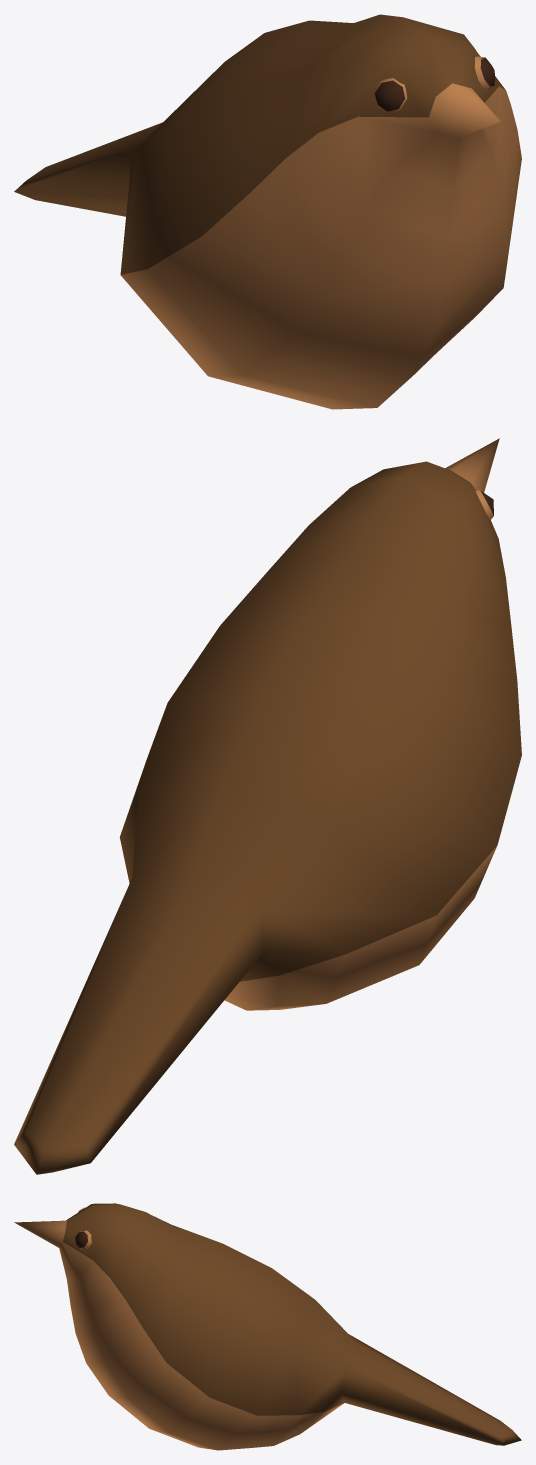
The model's file is Blackbird_f.glb.
3 views of the same model, one above another, from view 1: azimuth 30°, elevation 25°; view 2: azimuth 150°, elevation 25°; view 3: azimuth 270°, elevation 25° (orthographic). The views are drawn at different scales.
Visible parts, largest first — view 1: Black_Bird_female; view 2: Black_Bird_female; view 3: Black_Bird_female.
Part boxes in pixels (box(x1,y1,x2,y2)): Black_Bird_female: box(14, 14, 521, 409); Black_Bird_female: box(14, 438, 521, 1174); Black_Bird_female: box(14, 1203, 521, 1450).
Size of the model in its own units: 0.2999 by 0.3631 by 0.6871.
1 material, 1 textured.
